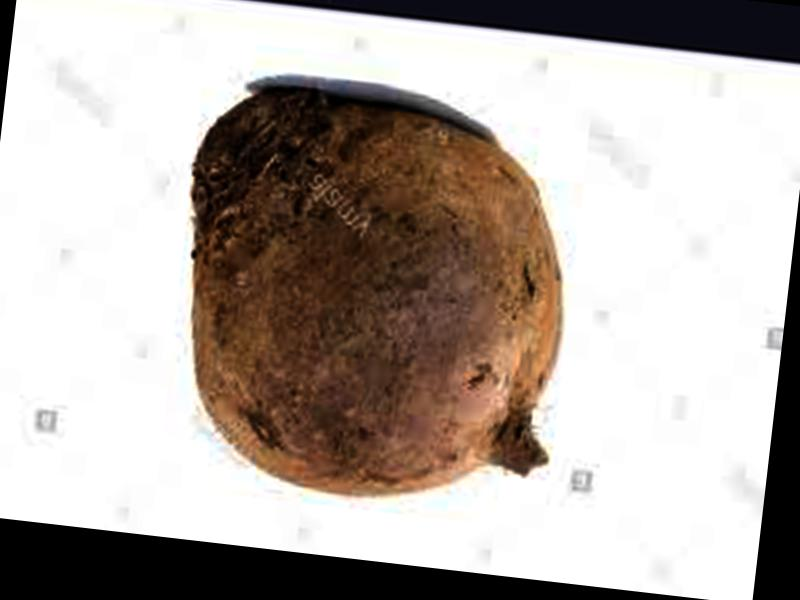Beet: (161, 79, 587, 517)
